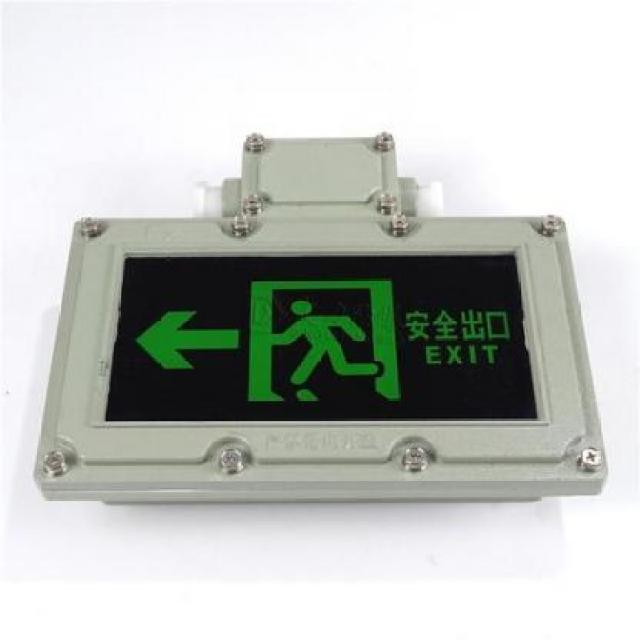exit_sign: (49, 212, 593, 457)
